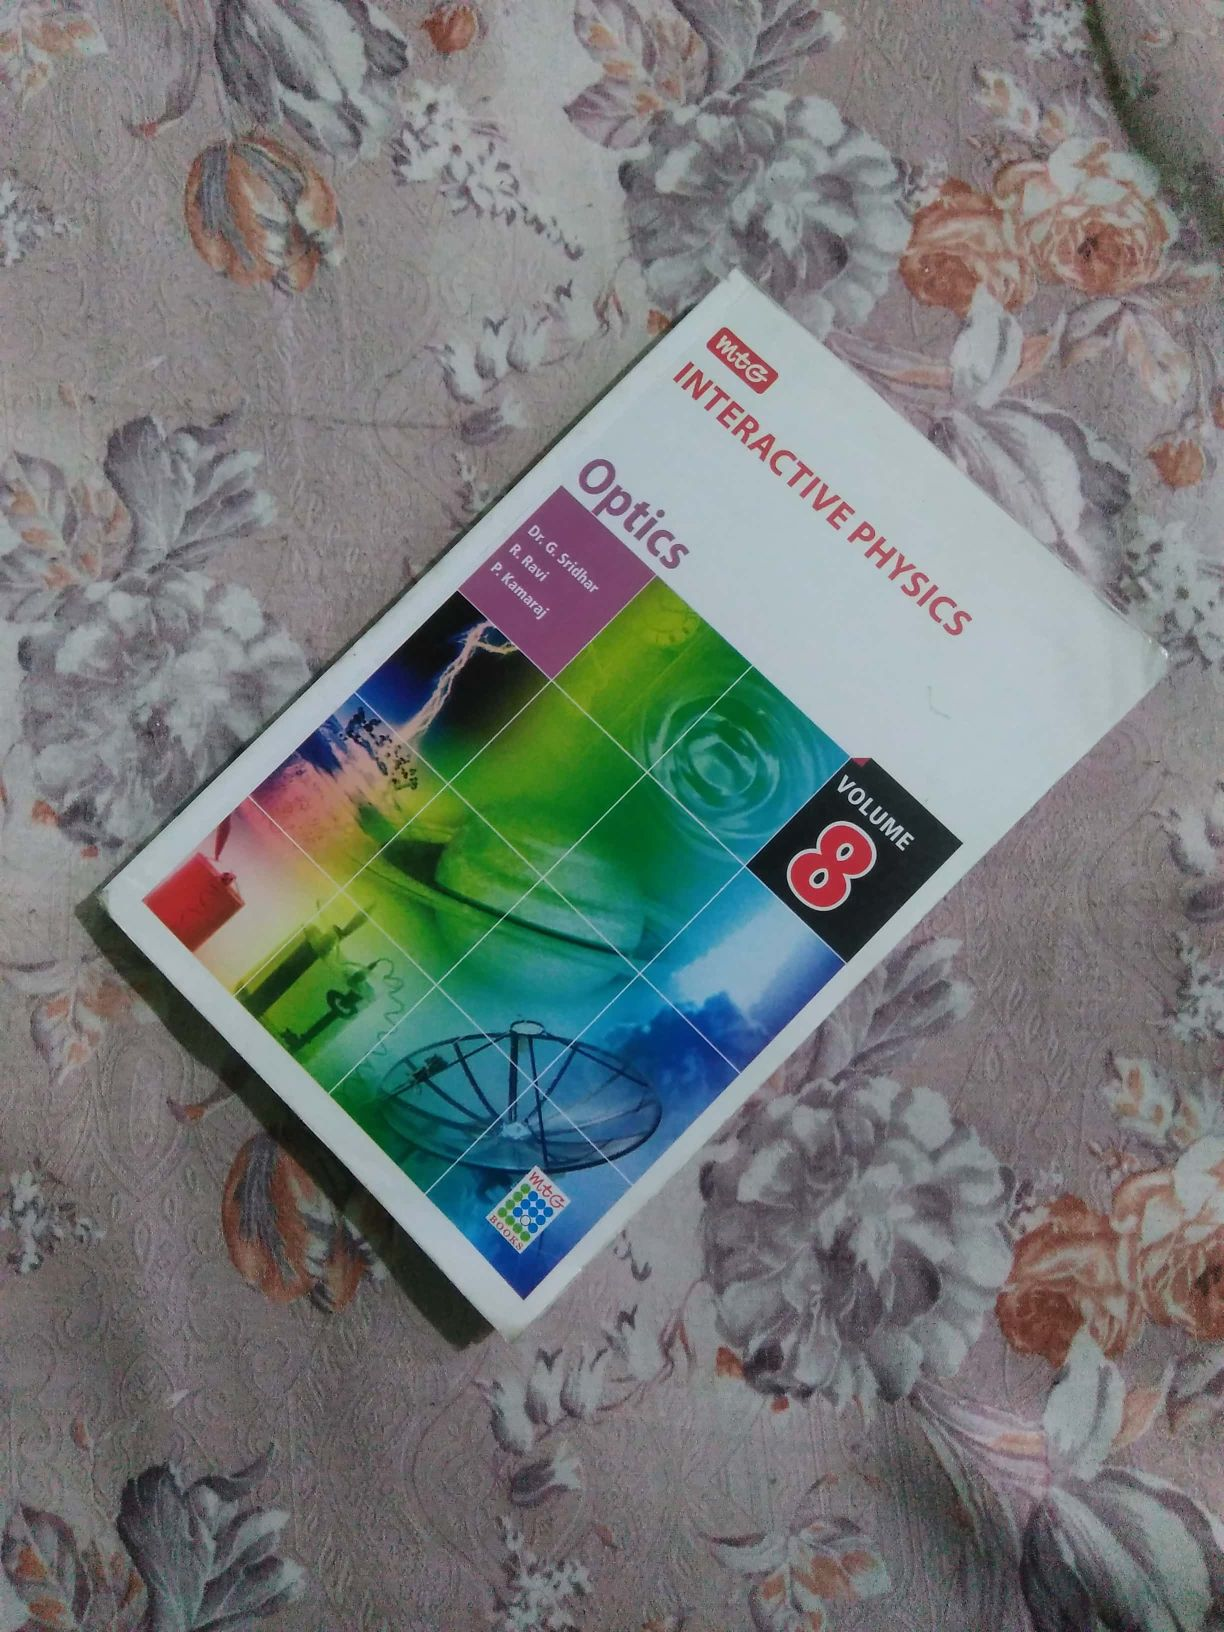optics: (170, 326, 1039, 1300)
